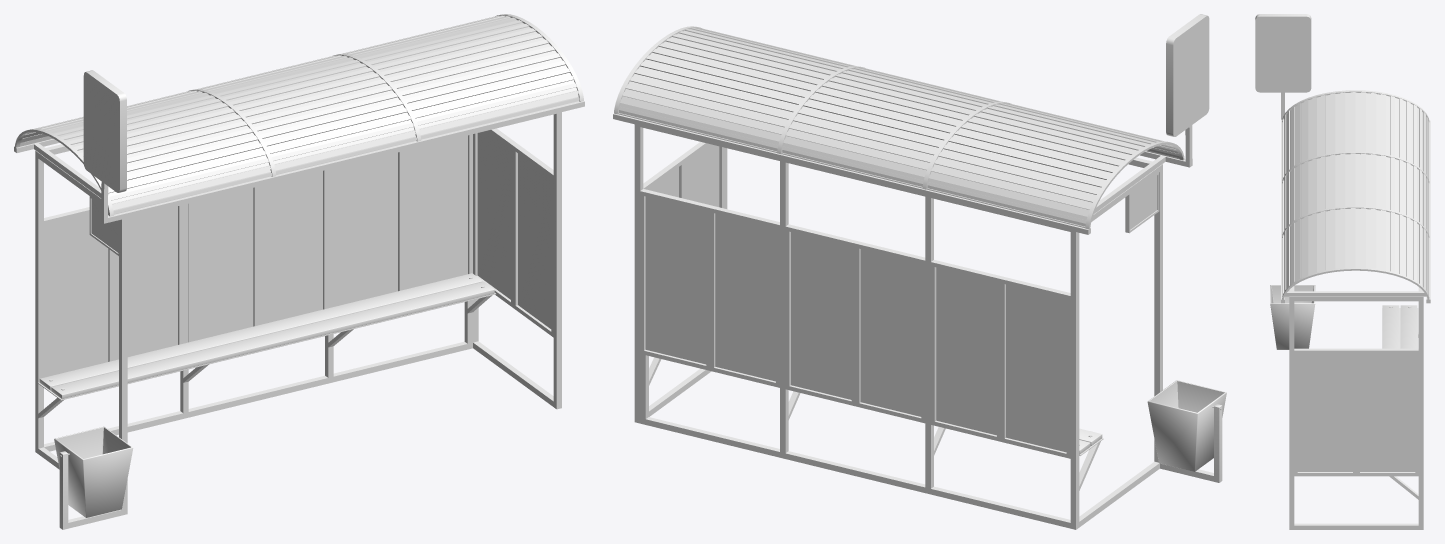
3 renders of one model, left to right at view 1: azimuth 30°, elevation 25°; view 2: azimuth 150°, elevation 25°; view 3: azimuth 270°, elevation 25°, orthographic. The views are drawn at different scales.
Size of the model in its own units: 2.95 by 2.4 by 1.12.
Materials: 1 (1 with a texture image).
